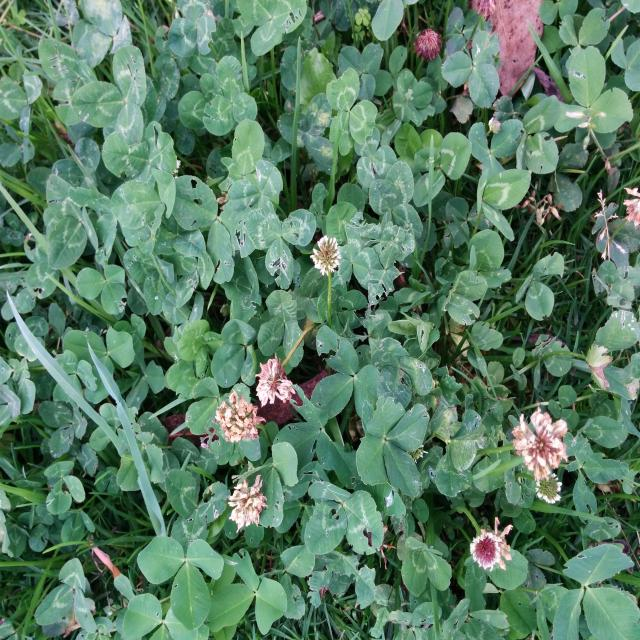Four Leaf Clover: (356, 395, 430, 500)
